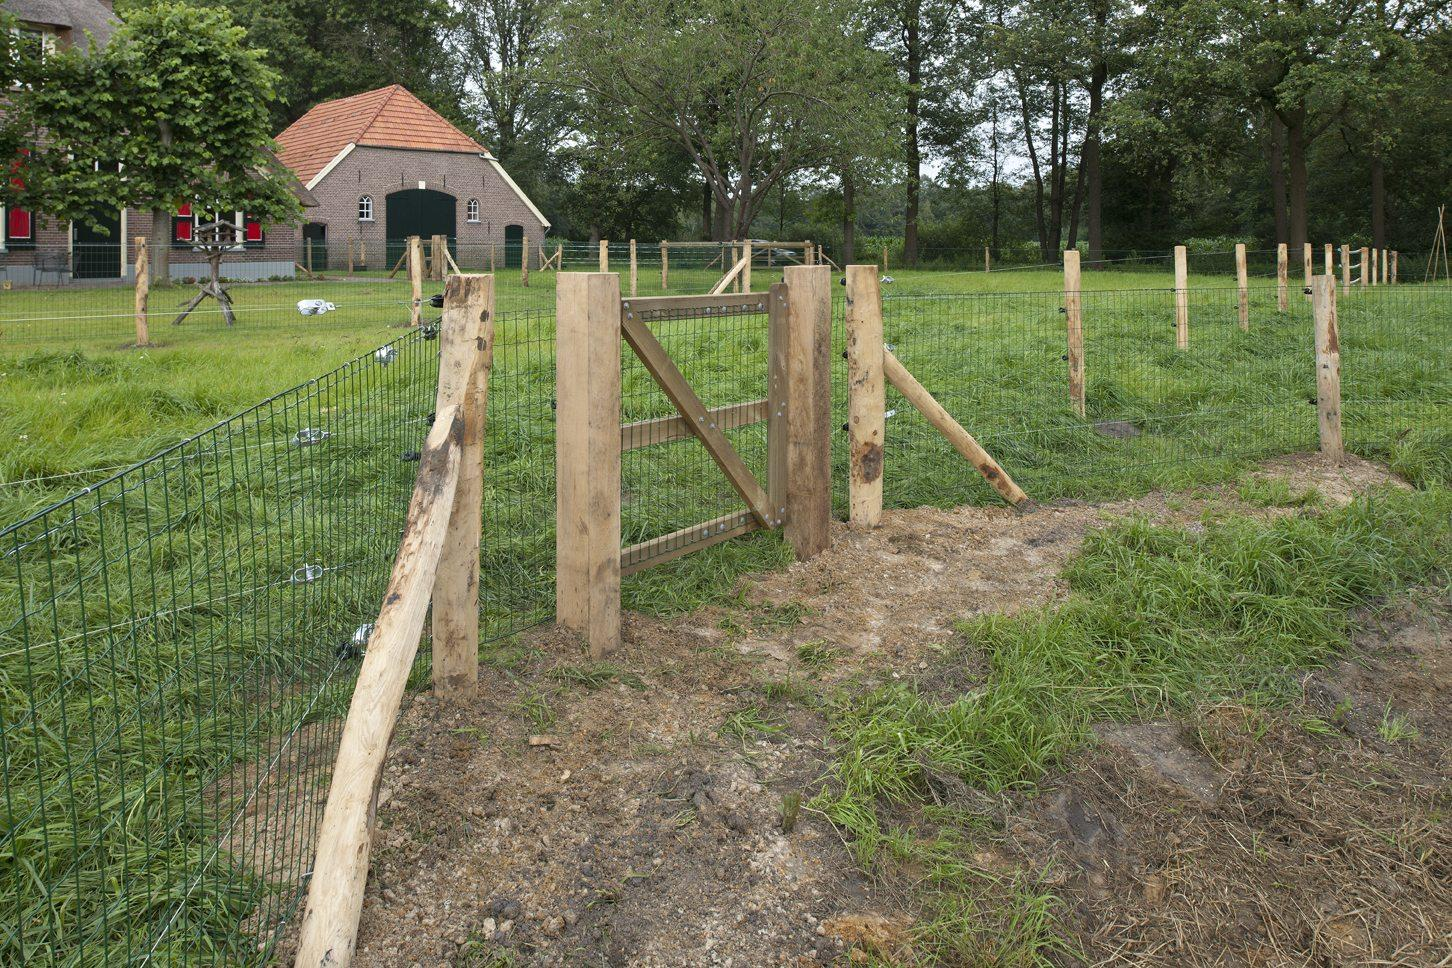obstacle: (174, 297, 1452, 653)
